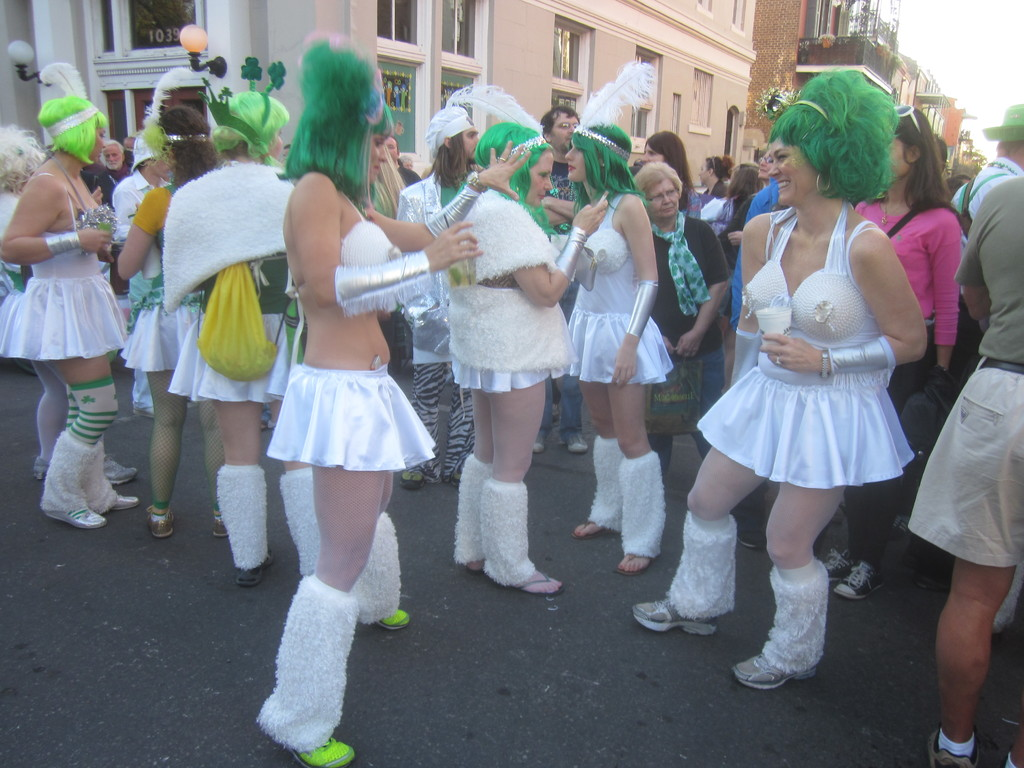Footwear: (263, 717, 354, 767), (730, 646, 820, 694), (628, 598, 727, 636), (831, 550, 895, 596), (36, 494, 102, 529), (927, 725, 981, 767), (504, 561, 561, 598), (361, 604, 424, 634), (819, 544, 866, 580), (231, 550, 273, 582), (612, 548, 656, 575), (97, 487, 144, 509), (143, 508, 177, 538), (209, 503, 236, 539), (570, 516, 609, 540), (996, 593, 1017, 633), (459, 550, 490, 575), (737, 527, 771, 549), (998, 742, 1023, 767), (108, 463, 137, 484), (401, 466, 427, 487), (31, 452, 47, 484), (439, 466, 461, 487), (131, 404, 157, 420), (255, 412, 272, 435)
